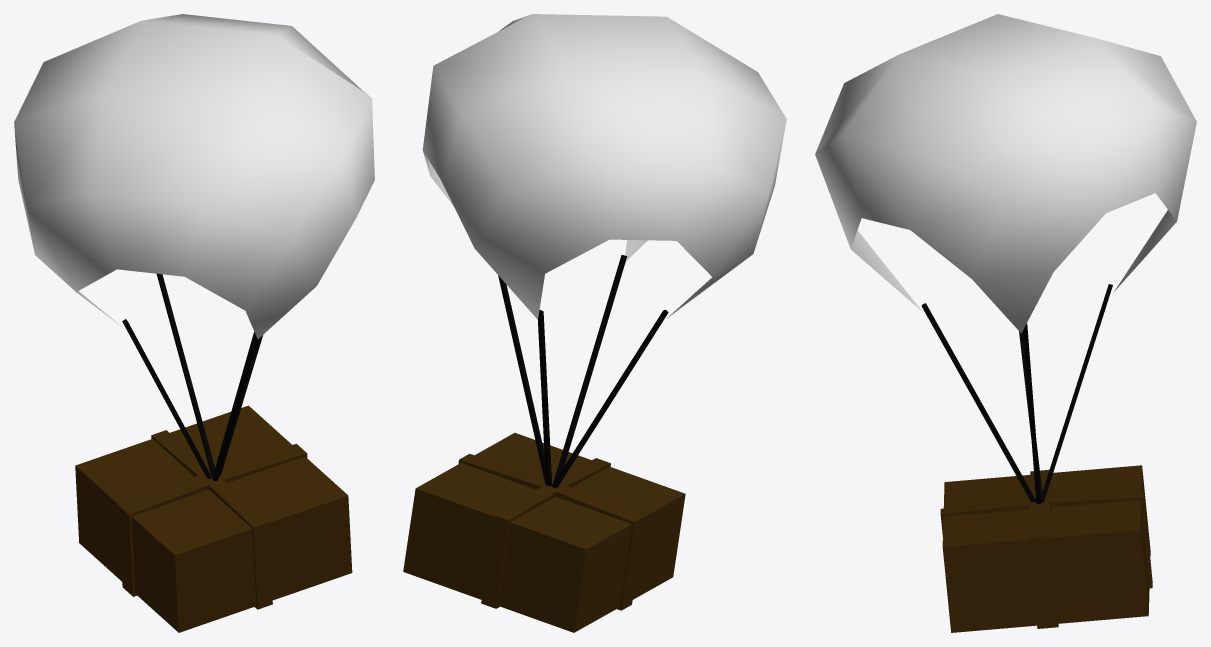
Rendered from CarePackageAnim.fbx.
3 renders of one model, left to right at view 1: azimuth 30°, elevation 25°; view 2: azimuth 150°, elevation 25°; view 3: azimuth 270°, elevation 25°, orthographic.
Visible parts, largest first — view 1: Sail, Package, Strings; view 2: Sail, Package, Strings; view 3: Sail, Package, Strings.
Part boxes in pixels (x1,y1,x2,y2): Sail: [14, 14, 374, 339]; Package: [75, 405, 352, 632]; Strings: [122, 273, 262, 481]; Sail: [422, 14, 786, 319]; Package: [403, 433, 685, 632]; Strings: [498, 255, 668, 487]; Sail: [815, 14, 1196, 333]; Package: [940, 465, 1152, 632]; Strings: [921, 284, 1112, 503].
Bounding box in the file's own units: 0.9735 × 1.54 × 0.9744.
